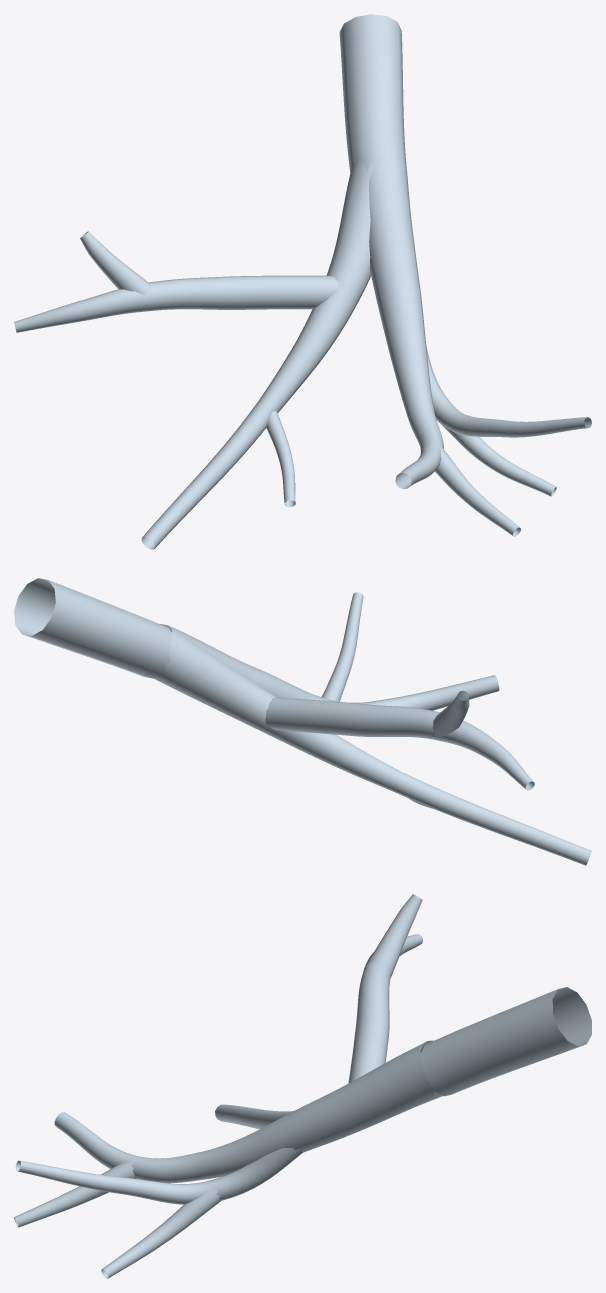
The model's file is visceras-middle-lobar-bronchus-r.glb.
3 renders of one model, top to bottom at view 1: azimuth 30°, elevation 25°; view 2: azimuth 150°, elevation 25°; view 3: azimuth 270°, elevation 25°, orthographic. The views are drawn at different scales.
Parts seen in each view (by area): view 1: Lateral segmental bronchus of right lung (BIV), Medial segmental bronchus of right lung (BV), Middle lobar bronchus.r; view 2: Lateral segmental bronchus of right lung (BIV), Middle lobar bronchus.r, Medial segmental bronchus of right lung (BV); view 3: Medial segmental bronchus of right lung (BV), Middle lobar bronchus.r, Lateral segmental bronchus of right lung (BIV).
Boxes of the visible parts, x1=… form: Lateral segmental bronchus of right lung (BIV): x1=14, y1=158, x2=389, y2=549; Medial segmental bronchus of right lung (BV): x1=355, y1=157, x2=591, y2=536; Middle lobar bronchus.r: x1=339, y1=14, x2=406, y2=172; Lateral segmental bronchus of right lung (BIV): x1=154, y1=626, x2=591, y2=865; Middle lobar bronchus.r: x1=14, y1=578, x2=172, y2=678; Medial segmental bronchus of right lung (BV): x1=160, y1=592, x2=499, y2=710; Medial segmental bronchus of right lung (BV): x1=14, y1=1041, x2=441, y2=1278; Middle lobar bronchus.r: x1=420, y1=987, x2=591, y2=1096; Lateral segmental bronchus of right lung (BIV): x1=215, y1=894, x2=442, y2=1129.
Size of the model in its own units: 0.0933 by 0.0622 by 0.1011.
